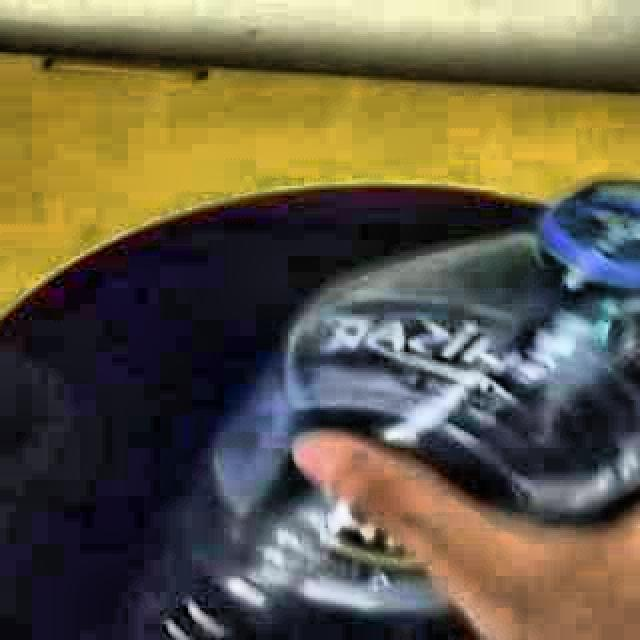plastic: (172, 179, 640, 640)
